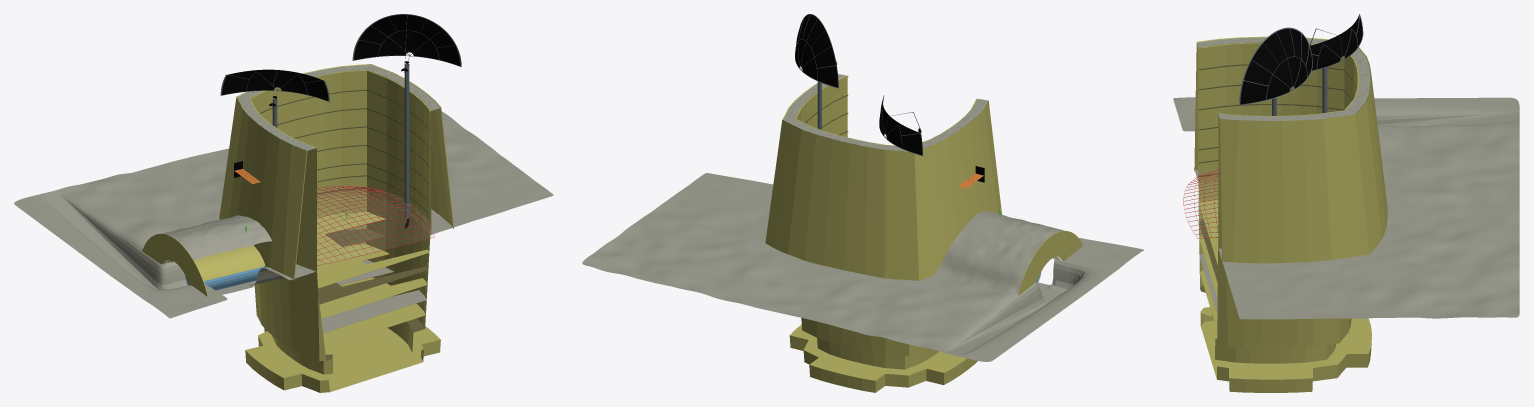
File: polar_hab_cutaway.glb
3 renders of one model, left to right at view 1: azimuth 30°, elevation 25°; view 2: azimuth 150°, elevation 25°; view 3: azimuth 270°, elevation 25°, orthographic. The views are drawn at different scales.
Parts seen in each view (by area): view 1: HabWalls, Ground, MIrrorDish, ModuleCover, PiledRegolith, MembraneMesh, MIrrorDish.001, RammedWallFill, LightTube, Module, MirrorInfrastructure; view 2: HabWalls, Ground, PiledRegolith, MIrrorDish, RammedWallFill, ModuleCover, MIrrorDish.001; view 3: HabWalls, Ground, MIrrorDish, RammedWallFill, MIrrorDish.001, MembraneMesh, MirrorInfrastructure, MirrorInfrastructure.001.
Part boxes in pixels (bbox=[...]): HabWalls: bbox=[219, 64, 453, 392]; Ground: bbox=[14, 111, 553, 318]; MIrrorDish: bbox=[354, 15, 460, 66]; ModuleCover: bbox=[142, 233, 265, 296]; PiledRegolith: bbox=[163, 215, 271, 260]; MembraneMesh: bbox=[317, 186, 434, 265]; MIrrorDish.001: bbox=[222, 69, 328, 100]; RammedWallFill: bbox=[237, 64, 440, 150]; LightTube: bbox=[404, 65, 409, 217]; Module: bbox=[185, 266, 264, 290]; MirrorInfrastructure: bbox=[352, 14, 461, 72]; HabWalls: bbox=[765, 75, 1001, 392]; Ground: bbox=[582, 173, 1143, 361]; PiledRegolith: bbox=[934, 211, 1064, 293]; MIrrorDish: bbox=[795, 15, 837, 87]; RammedWallFill: bbox=[783, 74, 987, 151]; ModuleCover: bbox=[1018, 231, 1082, 295]; MIrrorDish.001: bbox=[879, 98, 922, 155]; HabWalls: bbox=[1194, 36, 1387, 392]; Ground: bbox=[1173, 97, 1519, 319]; MIrrorDish: bbox=[1240, 28, 1312, 104]; RammedWallFill: bbox=[1197, 37, 1370, 120]; MIrrorDish.001: bbox=[1310, 15, 1362, 70]; MembraneMesh: bbox=[1183, 170, 1218, 238]; MirrorInfrastructure: bbox=[1239, 27, 1312, 105]; MirrorInfrastructure.001: bbox=[1309, 14, 1363, 71].
Bounding box in the file's own units: 105 × 78.63 × 69.64.
